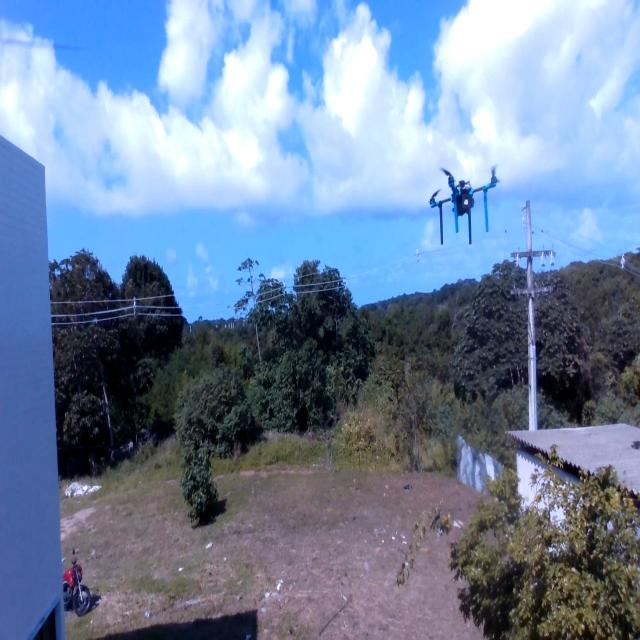-uav-: (415, 154, 505, 252)
